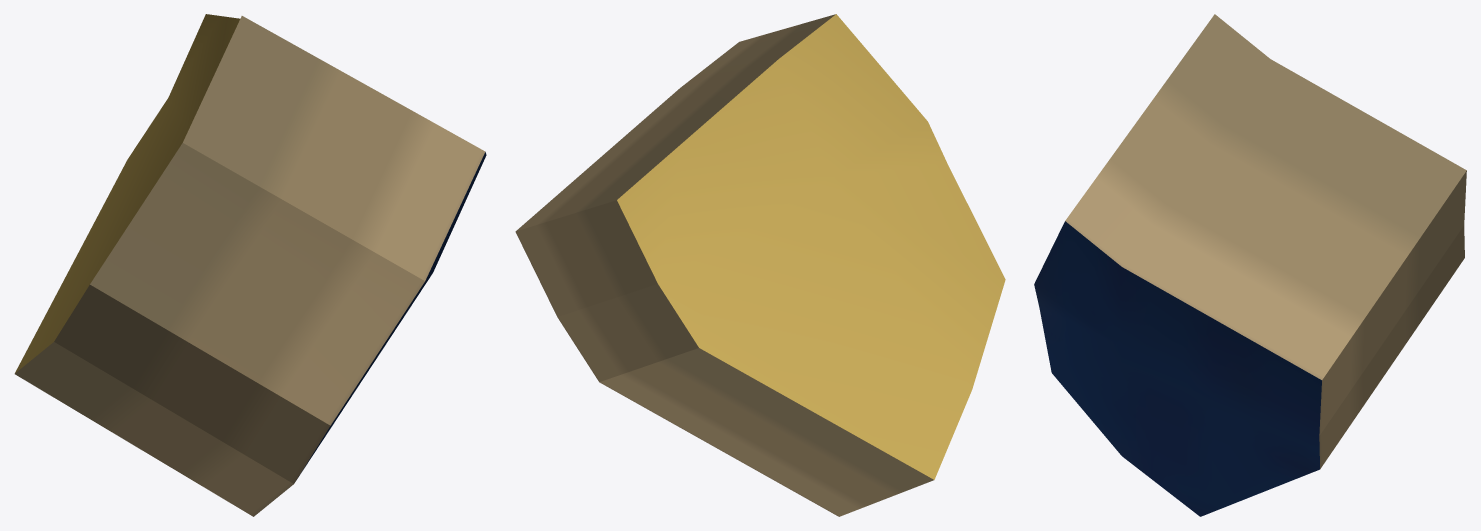
File: 05f4_Uruguay.glb
3 views of the same model, side by side, from view 1: azimuth 30°, elevation 25°; view 2: azimuth 150°, elevation 25°; view 3: azimuth 270°, elevation 25° (orthographic). The views are drawn at different scales.
Visible parts, largest first — view 1: part_0; view 2: part_0; view 3: part_0.
Boxes of the visible parts, left/top/right/bottom form: part_0: left=14, top=14, right=486, bottom=516; part_0: left=515, top=14, right=1005, bottom=516; part_0: left=1034, top=14, right=1466, bottom=516.
Bounding box in the file's own units: 0.3469 × 0.3909 × 0.3062.
1 material, 1 textured.
